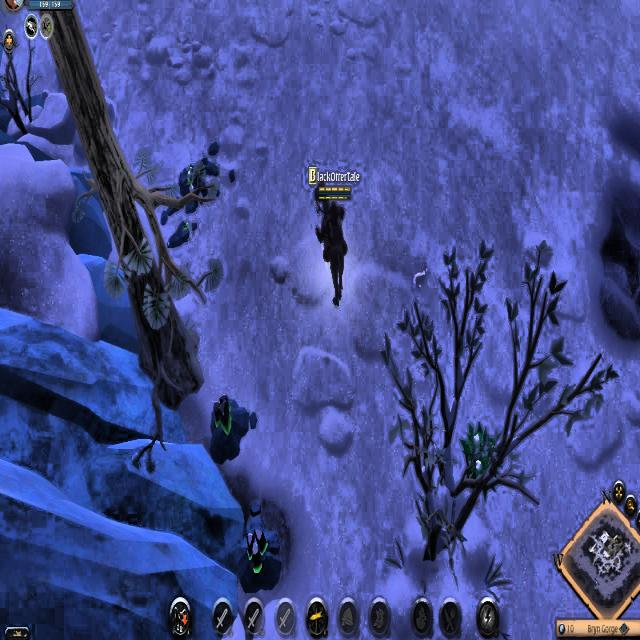tinore: (208, 390, 252, 464), (238, 522, 282, 594)
